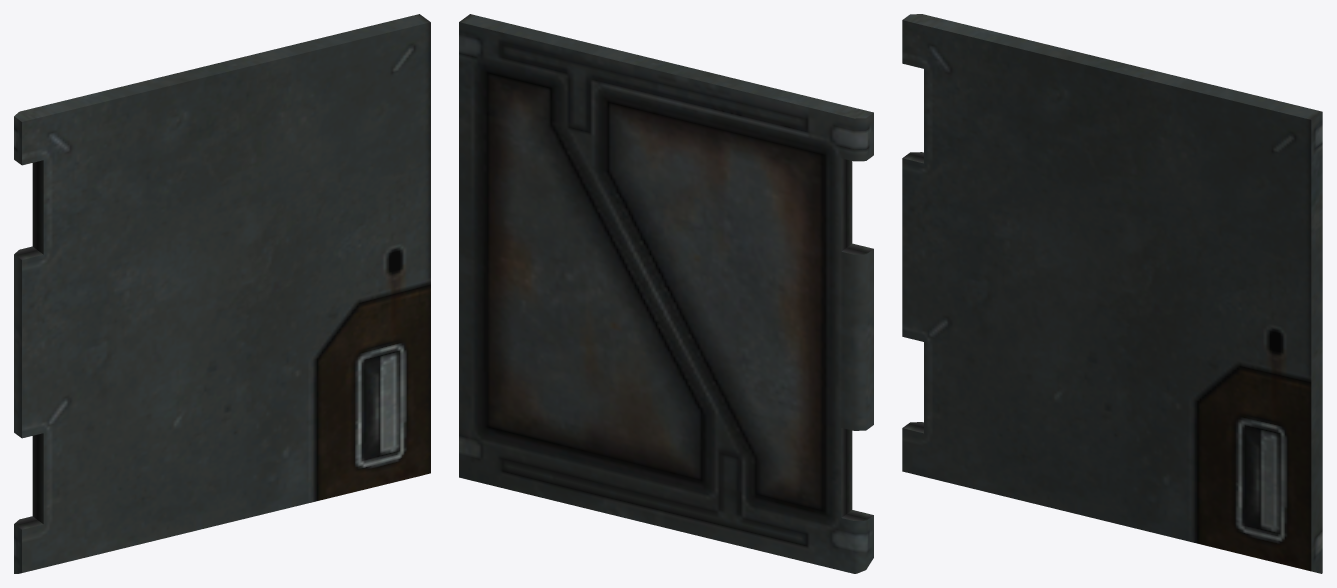
File: desk_work_cabin_left_door.dae
3 views of the same model, side by side, from view 1: azimuth 30°, elevation 25°; view 2: azimuth 150°, elevation 25°; view 3: azimuth 330°, elevation 25° (orthographic).
Parts seen in each view (by area): view 1: left_door; view 2: left_door; view 3: left_door.
Boxes of the visible parts, x1,y1,x2,y2 form: left_door: (14, 14, 430, 573); left_door: (459, 14, 873, 573); left_door: (902, 14, 1322, 573).
Size of the model in its own units: 1.31 by 1.42 by 0.0626.
1 material, 1 textured.
